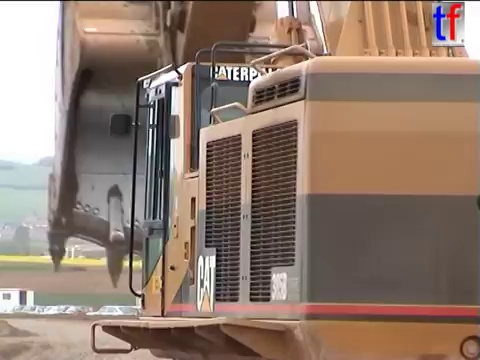excavator: (44, 1, 480, 360)
